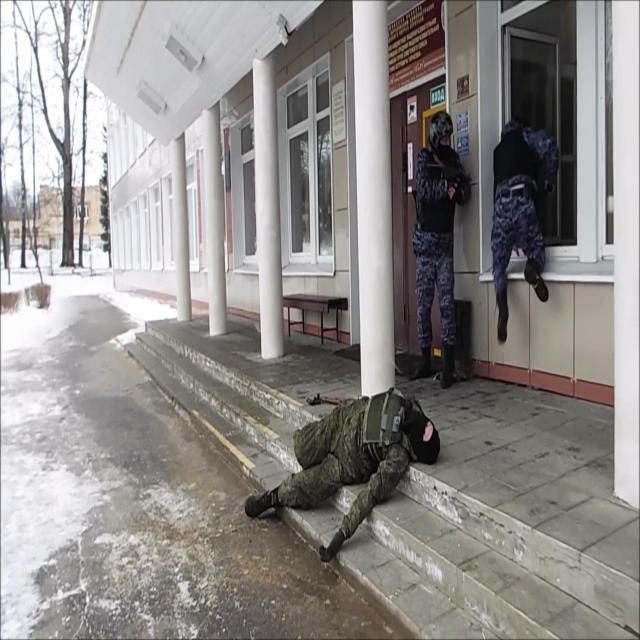pistol: (426, 149, 468, 194)
